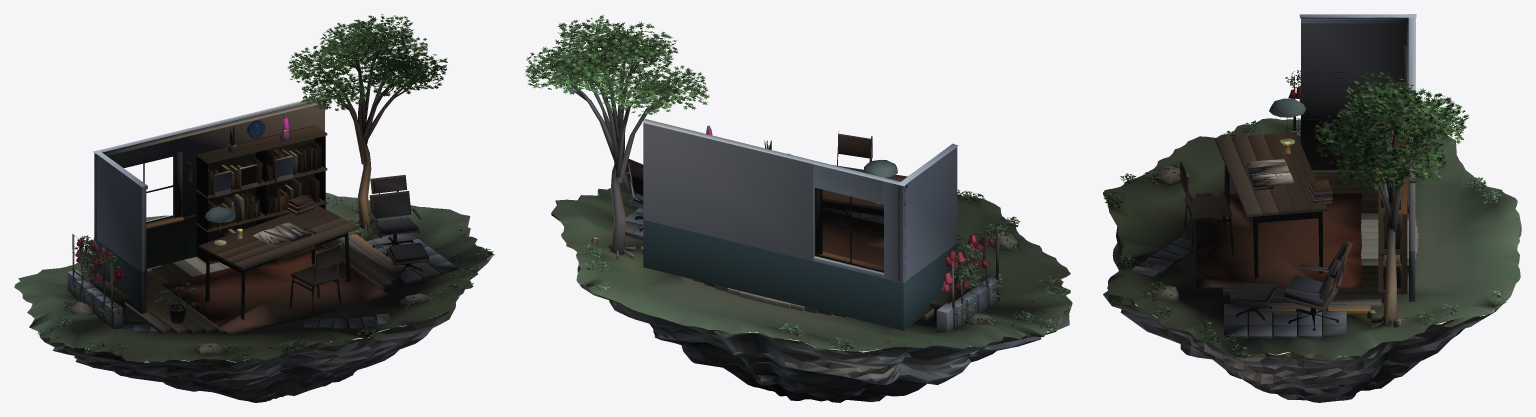
File: flight-writing-20b750ec.glb
The picture shows the model from 3 angles, left to right: view 1: azimuth 30°, elevation 25°; view 2: azimuth 150°, elevation 25°; view 3: azimuth 270°, elevation 25°; orthographic projection. The views are drawn at different scales.
Parts seen in each view (by area): view 1: Writing island · flight.001; view 2: Writing island · flight.001; view 3: Writing island · flight.001.
Part boxes in pixels (bbox=[...]): Writing island · flight.001: bbox=[14, 14, 494, 402]; Writing island · flight.001: bbox=[525, 15, 1072, 402]; Writing island · flight.001: bbox=[1103, 14, 1521, 402].
Bounding box in the file's own units: 11.76 × 8.12 × 8.15.
